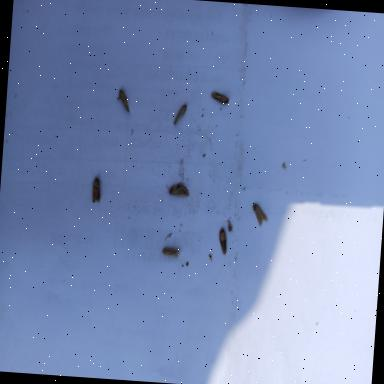pbw: (250, 202, 272, 228), (170, 101, 188, 132), (116, 88, 134, 116), (165, 182, 191, 200), (216, 228, 230, 256), (90, 176, 102, 206), (160, 244, 182, 259), (210, 90, 230, 104)
